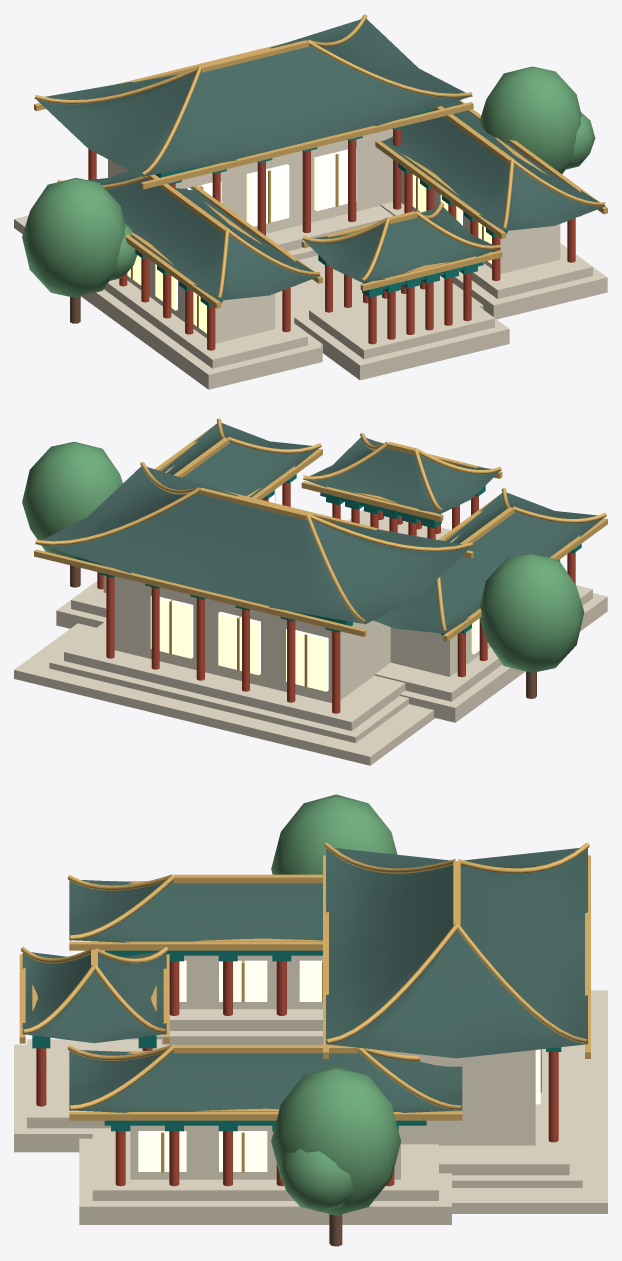
The model's file is archive-hall.glb.
3 renders of one model, top to bottom at view 1: azimuth 30°, elevation 25°; view 2: azimuth 150°, elevation 25°; view 3: azimuth 270°, elevation 25°, orthographic. The views are drawn at different scales.
Size of the model in its own units: 3.9 by 1.19 by 2.95.
